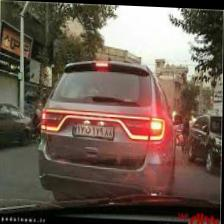plate: (71, 119, 115, 138)
